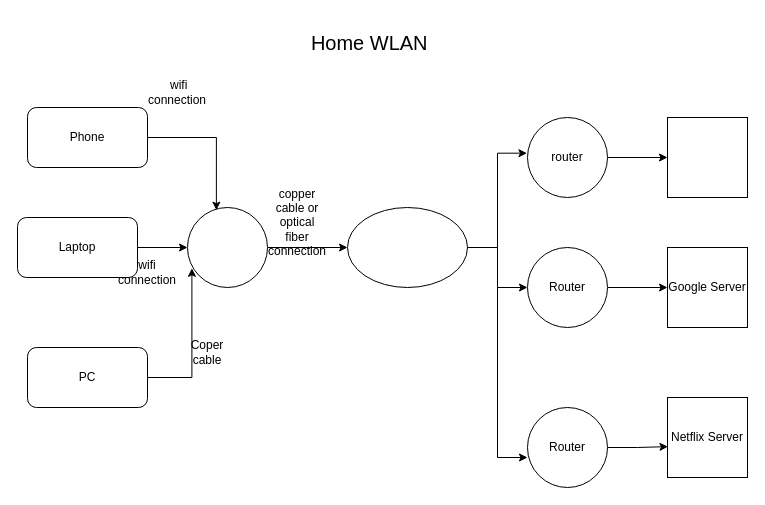
Some shapes in this 765 by 505 pixel diagram are drawn without their labels. Here are the shapes that lost their labels. From the top down, the centre of each, then its label:
the point at 707,157: Facebook Server
the point at 227,247: WIFI Router
the point at 407,247: ISP
